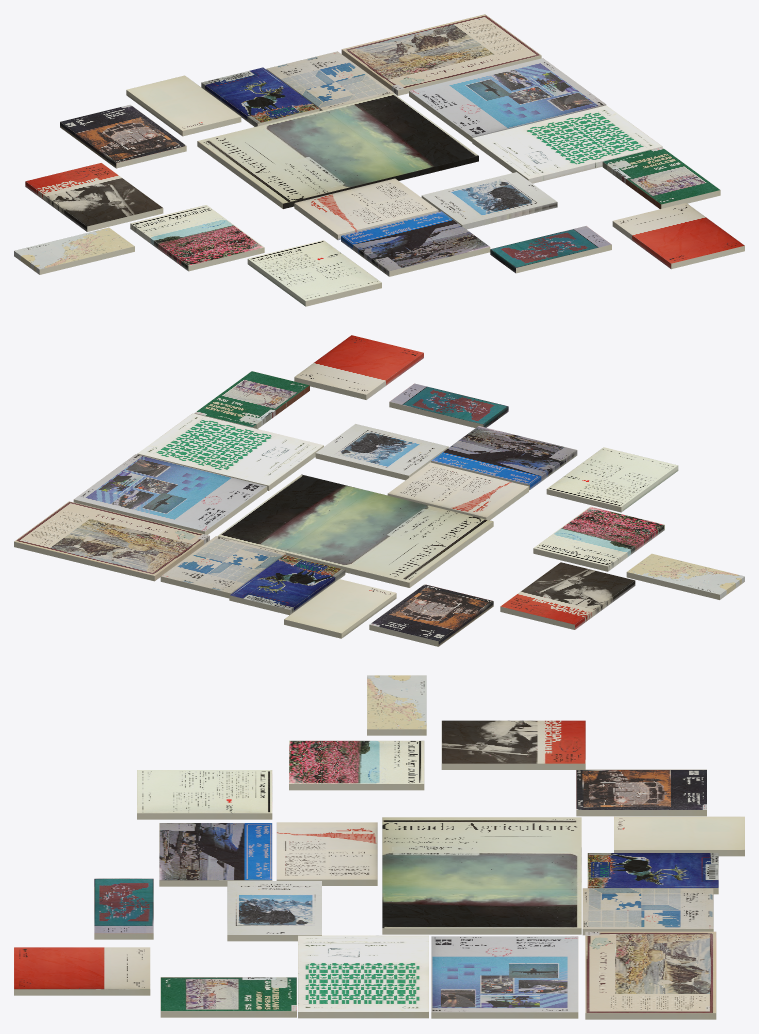
File: revistas.fbx
3 views of the same model, one above another, from view 1: azimuth 30°, elevation 25°; view 2: azimuth 150°, elevation 25°; view 3: azimuth 270°, elevation 25° (orthographic). The views are drawn at different scales.
Visible parts, largest first — view 1: Vintage Canadian Books; view 2: Vintage Canadian Books; view 3: Vintage Canadian Books.
Boxes of the visible parts, box(x1,y1,x2,y2) form: Vintage Canadian Books: box(14, 14, 744, 306); Vintage Canadian Books: box(14, 335, 744, 646); Vintage Canadian Books: box(14, 675, 744, 1019).
Bounding box in the file's own units: 293 × 2.58 × 268.
Materials: 1 (1 with a texture image).
